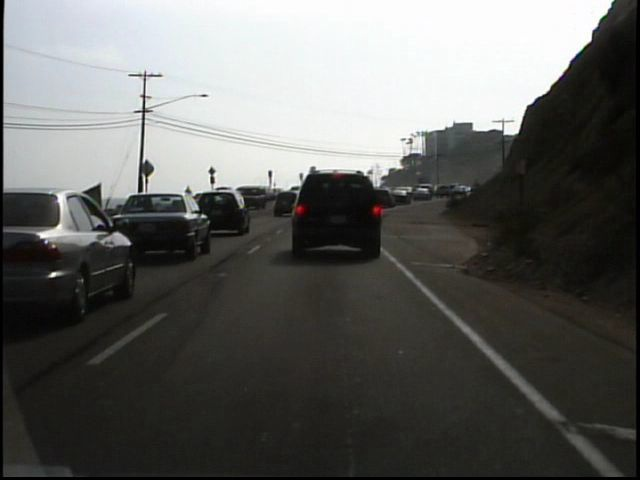person: (182, 182, 196, 210)
